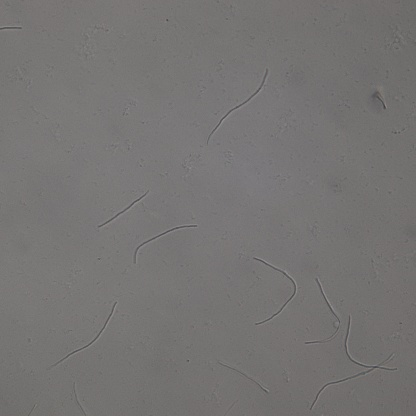Sensitive: (309, 317, 398, 410), (48, 300, 119, 370), (207, 67, 268, 143), (252, 256, 298, 330), (133, 223, 197, 264), (305, 276, 342, 345), (95, 190, 149, 228), (221, 362, 268, 392)
